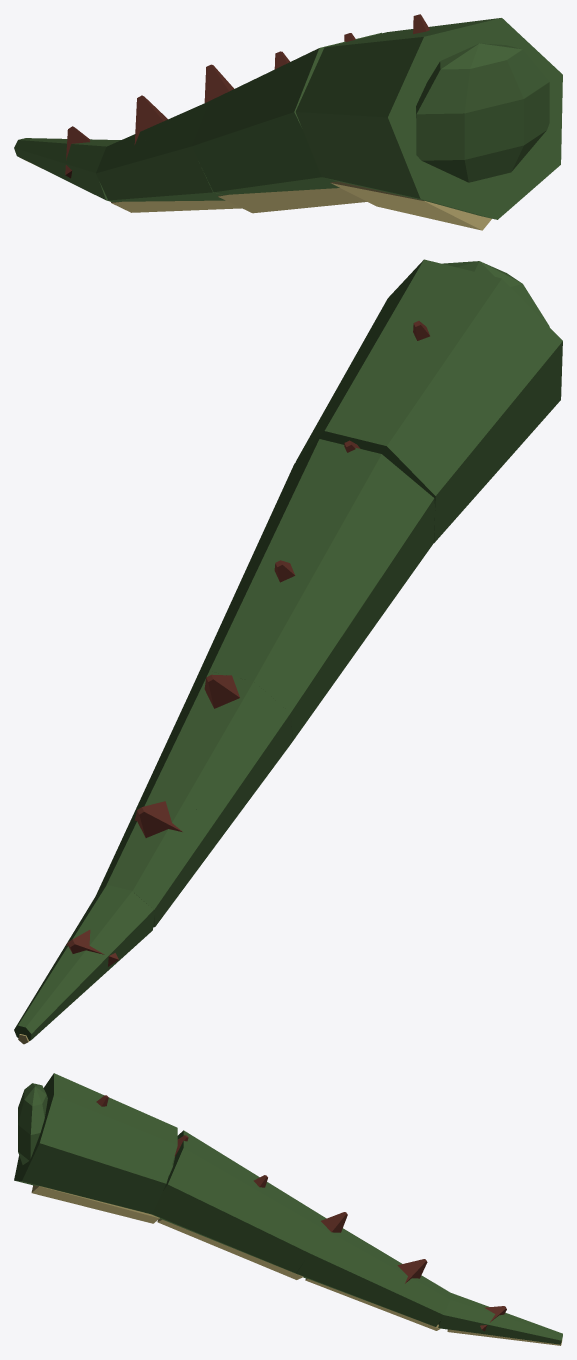
Rendered from lizard_tail_chief.glb.
3 renders of one model, top to bottom at view 1: azimuth 30°, elevation 25°; view 2: azimuth 150°, elevation 25°; view 3: azimuth 270°, elevation 25°, orthographic. The views are drawn at different scales.
Parts seen in each view (by area): view 1: lizard_tail_chief; view 2: lizard_tail_chief; view 3: lizard_tail_chief.
Boxes of the visible parts, bbox=[...] form: lizard_tail_chief: bbox=[14, 14, 562, 230]; lizard_tail_chief: bbox=[14, 259, 562, 1044]; lizard_tail_chief: bbox=[14, 1073, 562, 1345].
Bounding box in the file's own units: 0.2925 × 0.7243 × 1.38.
